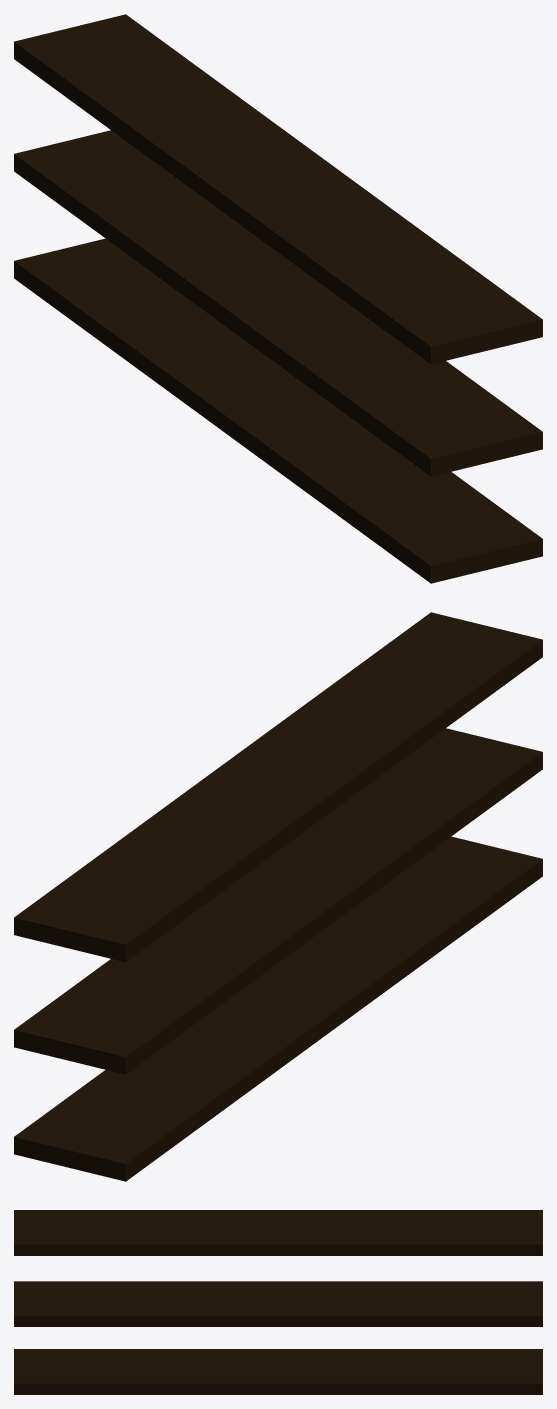
Rendered from shelf.fbx.
3 renders of one model, top to bottom at view 1: azimuth 30°, elevation 25°; view 2: azimuth 150°, elevation 25°; view 3: azimuth 270°, elevation 25°, orthographic. The views are drawn at different scales.
Parts seen in each view (by area): view 1: pCube30, pCube29, pCube28; view 2: pCube30, pCube29, pCube28; view 3: pCube28, pCube29, pCube30.
Boxes of the visible parts, box(x1,y1,x2,y2) form: pCube30: box(14, 14, 542, 364); pCube29: box(14, 130, 542, 476); pCube28: box(14, 238, 542, 583); pCube30: box(14, 612, 542, 962); pCube29: box(14, 728, 542, 1074); pCube28: box(14, 836, 542, 1181); pCube28: box(14, 1349, 542, 1394); pCube29: box(14, 1281, 542, 1326); pCube30: box(14, 1210, 542, 1255).
Size of the model in its own units: 0.8536 by 1.73 by 5.51.
